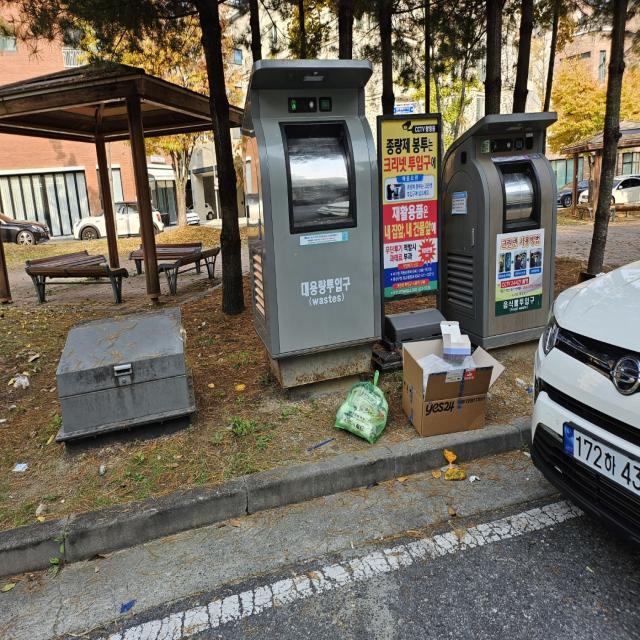CleanNet: (225, 51, 392, 380), (436, 101, 566, 349)
General Waste: (385, 326, 506, 439), (336, 380, 395, 446)
